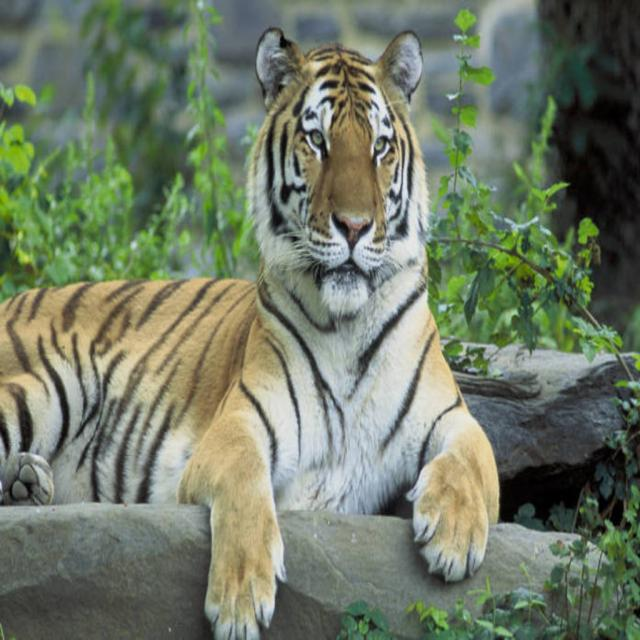Tiger: (0, 34, 499, 633)
